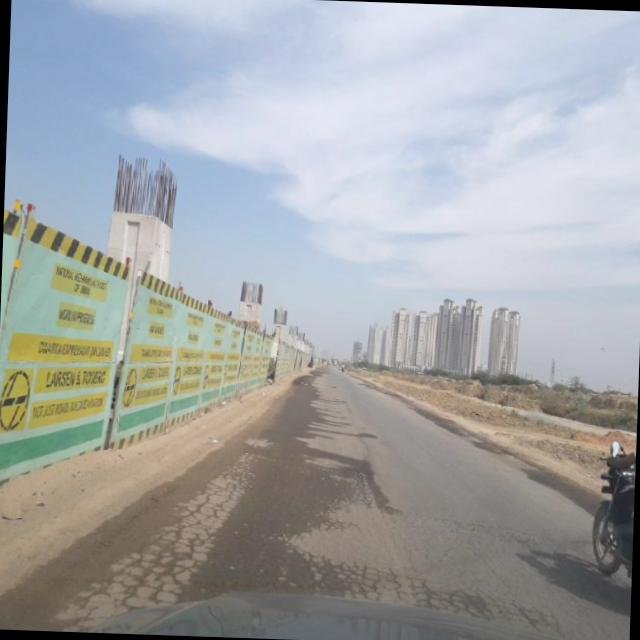crack: (46, 422, 403, 600), (397, 480, 596, 616)
